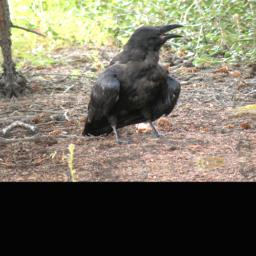Crow: (64, 21, 202, 151)
